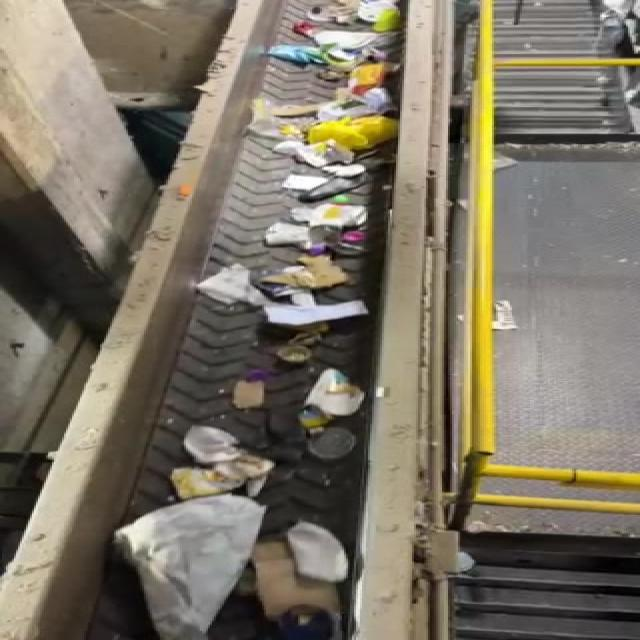paper: (84, 489, 258, 640), (152, 452, 290, 497), (158, 420, 266, 467), (296, 368, 381, 419), (217, 366, 278, 414)
pp: (276, 510, 369, 593), (293, 425, 390, 467), (262, 341, 324, 363)
